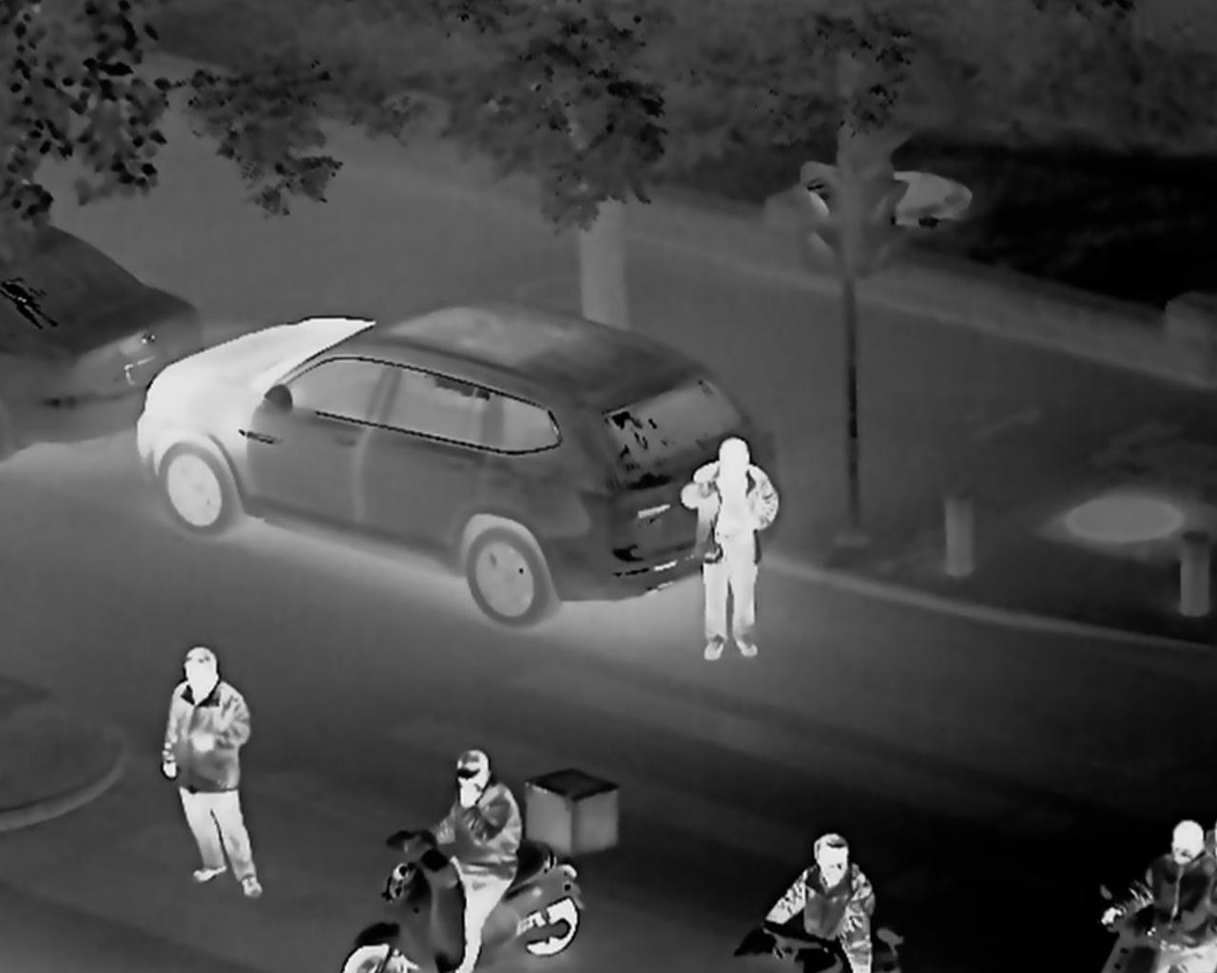person: (156, 646, 305, 925), (420, 753, 544, 973), (685, 439, 802, 655), (790, 831, 886, 973), (1151, 826, 1217, 969)
